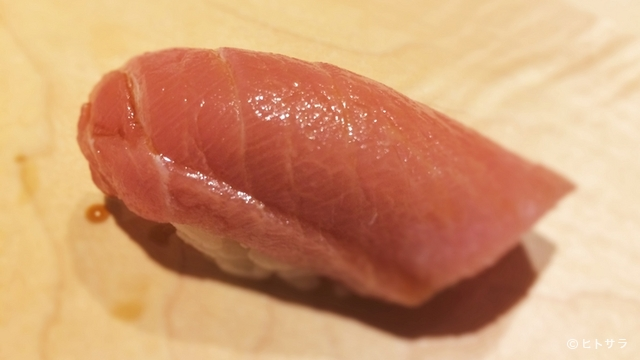medium_fatty_tuna: (76, 45, 580, 316)
